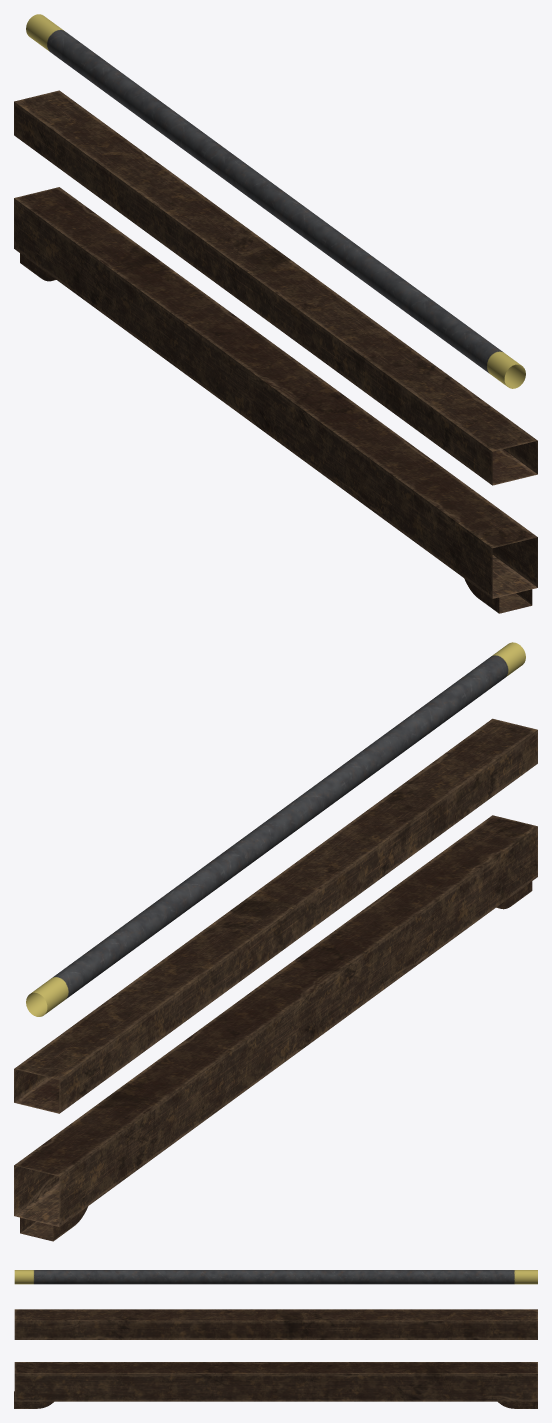
Rendered from SM_Fence_04.fbx.
3 renders of one model, top to bottom at view 1: azimuth 30°, elevation 25°; view 2: azimuth 150°, elevation 25°; view 3: azimuth 270°, elevation 25°, orthographic. The views are drawn at different scales.
Visible parts, largest first — view 1: SM_Fence_04_LOD0; view 2: SM_Fence_04_LOD0; view 3: SM_Fence_04_LOD0.
Part boxes in pixels (x1=…): SM_Fence_04_LOD0: x1=14, y1=14, x2=537, y2=613; SM_Fence_04_LOD0: x1=14, y1=642, x2=537, y2=1241; SM_Fence_04_LOD0: x1=14, y1=1270, x2=537, y2=1408.
Bounding box in the file's own units: 20.57 × 375 × 106.
